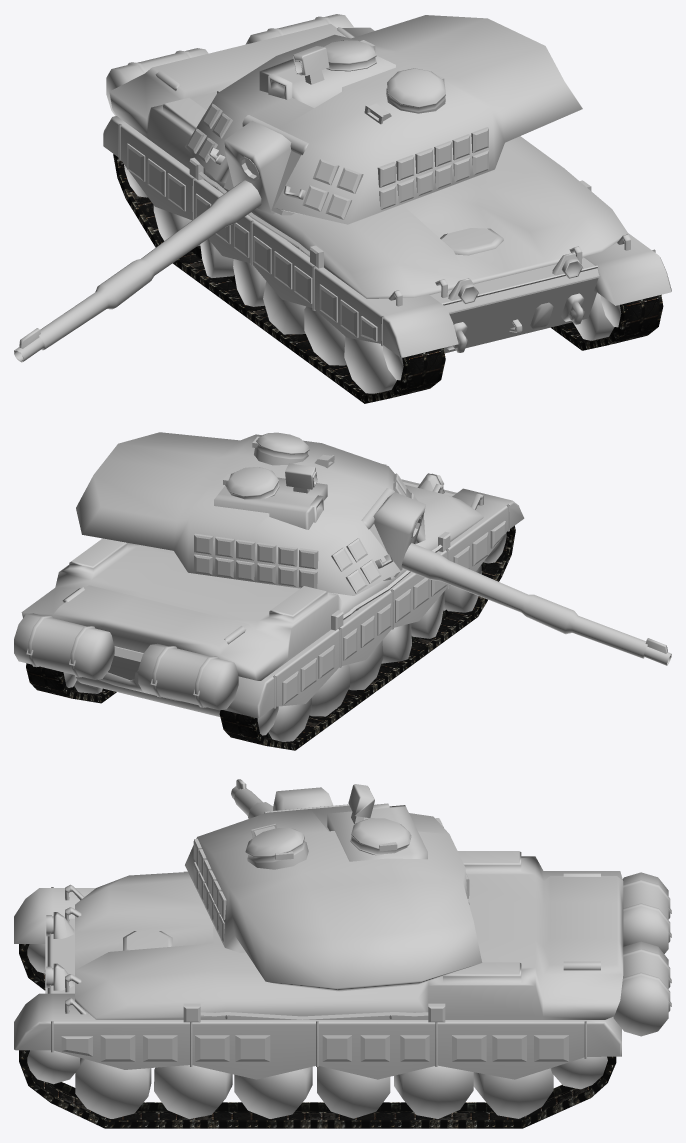
File: Challenger damaged tank.fbx
The picture shows the model from 3 angles, top to bottom: view 1: azimuth 30°, elevation 25°; view 2: azimuth 150°, elevation 25°; view 3: azimuth 270°, elevation 25°; orthographic projection. The views are drawn at different scales.
Visible parts, largest first — view 1: polySurface456, polySurface455; view 2: polySurface456, polySurface455; view 3: polySurface456, polySurface455.
Boxes of the visible parts, <box> form: polySurface456: <box>14,14,671,393</box>; polySurface455: <box>113,154,663,403</box>; polySurface456: <box>14,432,671,741</box>; polySurface455: <box>26,525,515,750</box>; polySurface456: <box>14,779,671,1118</box>; polySurface455: <box>19,944,616,1128</box>.
Bounding box in the file's own units: 652 × 256 × 616.
